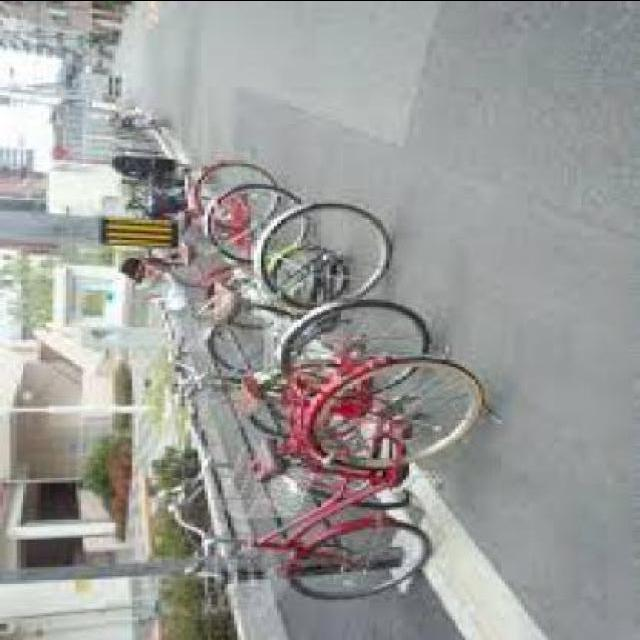bicycle: (164, 328, 482, 634)
